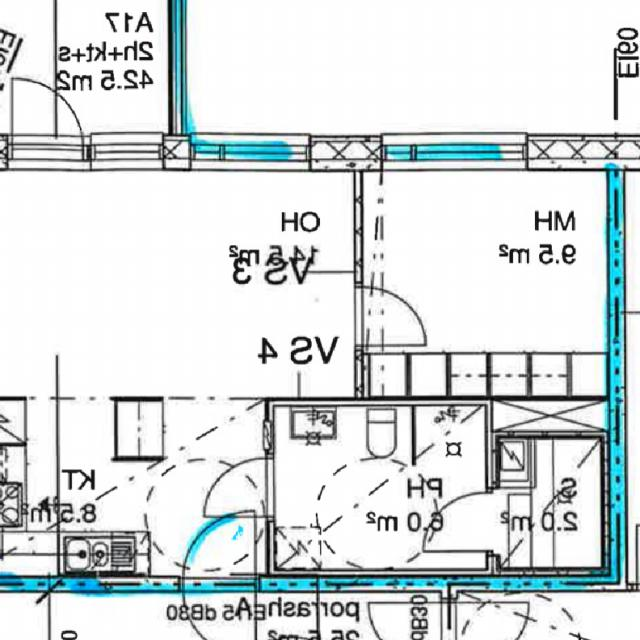door: (13, 68, 84, 170), (184, 507, 256, 592), (184, 575, 257, 640), (424, 492, 501, 551), (354, 286, 426, 346), (204, 458, 277, 517)
